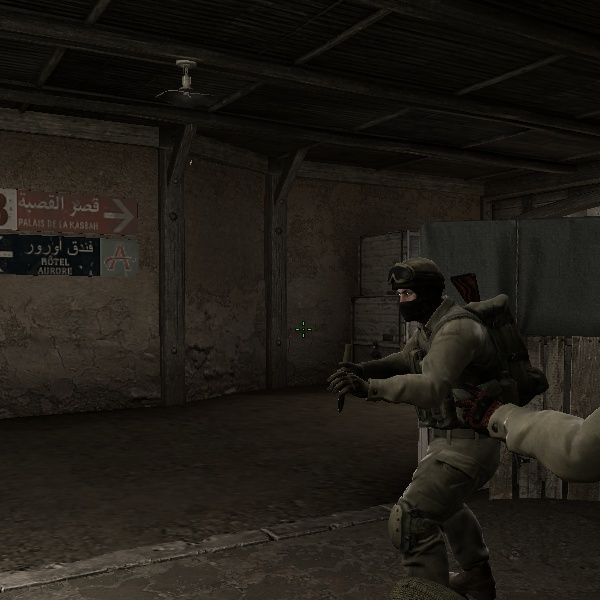ct_body: (320, 249, 496, 579)
ct_head: (376, 255, 458, 333)
